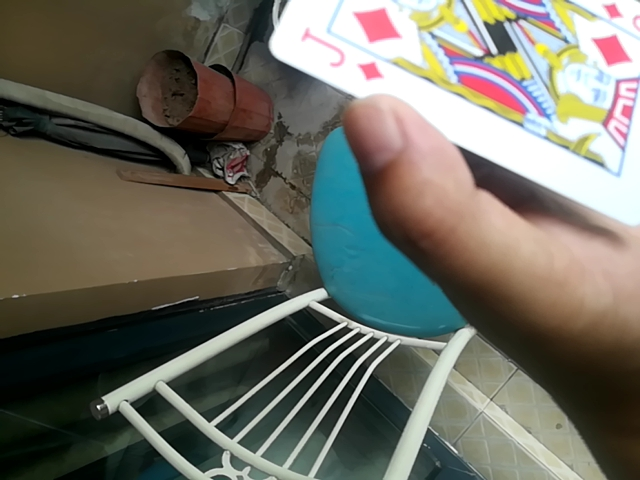fk j: (259, 1, 640, 235)
